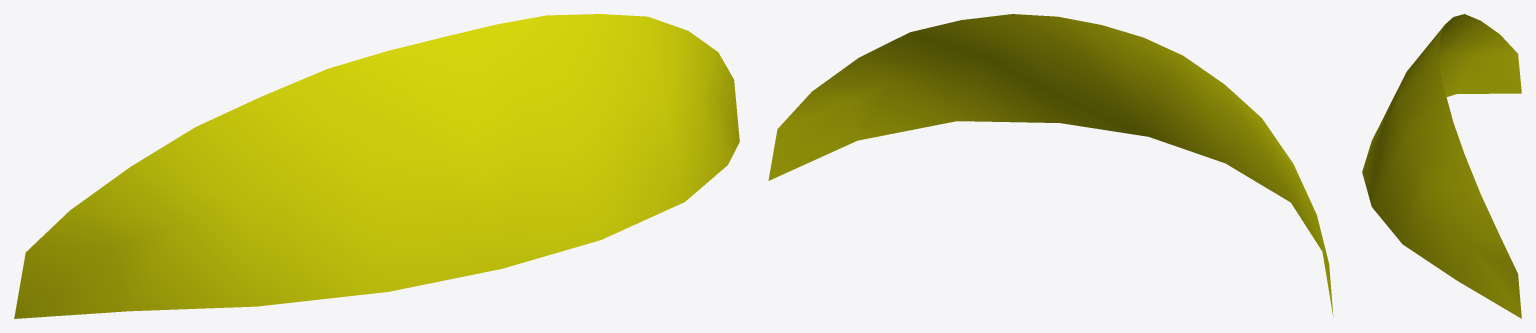
The model's file is Forehead2_61.glb.
3 views of the same model, side by side, from view 1: azimuth 30°, elevation 25°; view 2: azimuth 150°, elevation 25°; view 3: azimuth 270°, elevation 25° (orthographic). The views are drawn at different scales.
Size of the model in its own units: 48 by 15.23 by 14.37.
